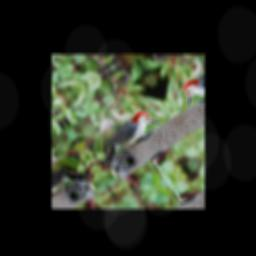Woodpecker: (87, 105, 168, 171)
